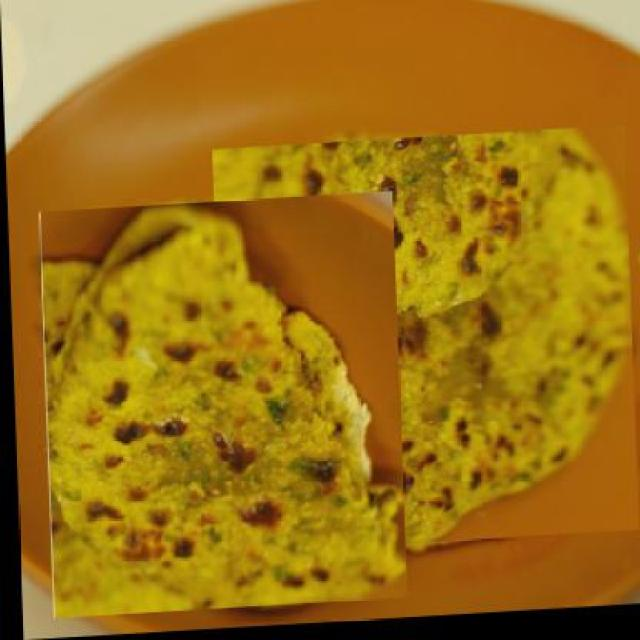chapati: (212, 130, 634, 561), (37, 194, 405, 620)
